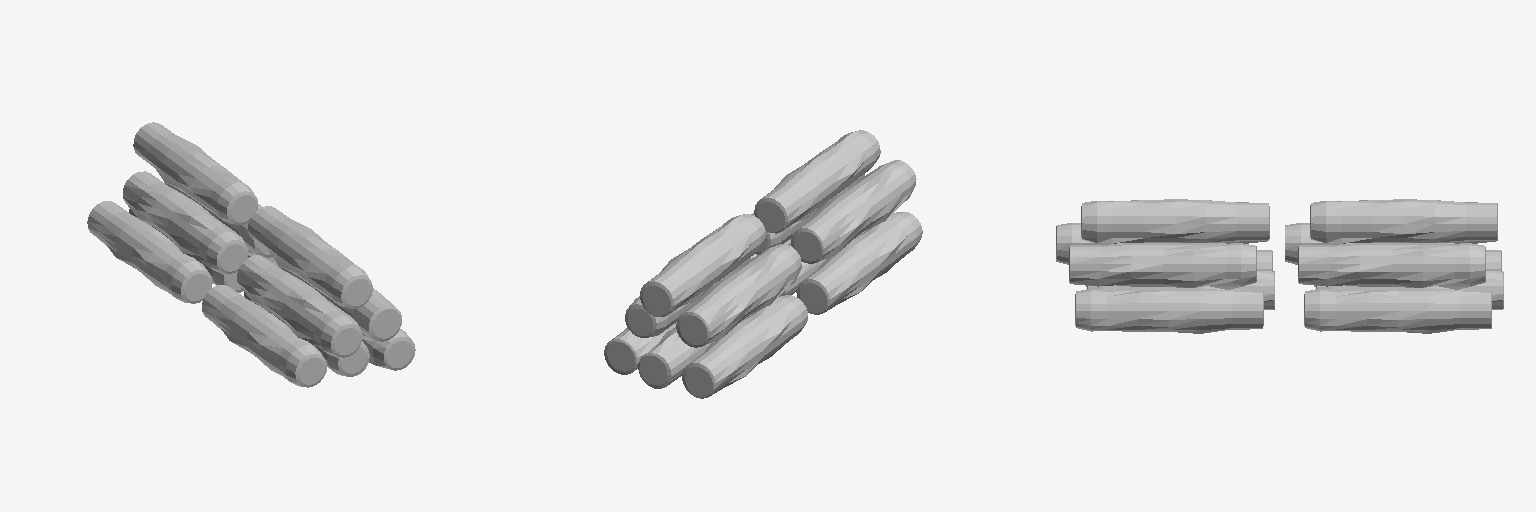
File: Logs.obj
The picture shows the model from 3 angles: view 1: azimuth 30°, elevation 25°; view 2: azimuth 150°, elevation 25°; view 3: azimuth 270°, elevation 25°; orthographic projection.
Parts seen in each view (by area): view 1: polySurface201; view 2: polySurface201; view 3: polySurface201.
Boxes of the visible parts, x1=… form: polySurface201: x1=87, y1=122, x2=415, y2=387; polySurface201: x1=604, y1=130, x2=922, y2=398; polySurface201: x1=1056, y1=199, x2=1503, y2=333.
Bounding box in the file's own units: 24.16 × 21.47 × 76.27.